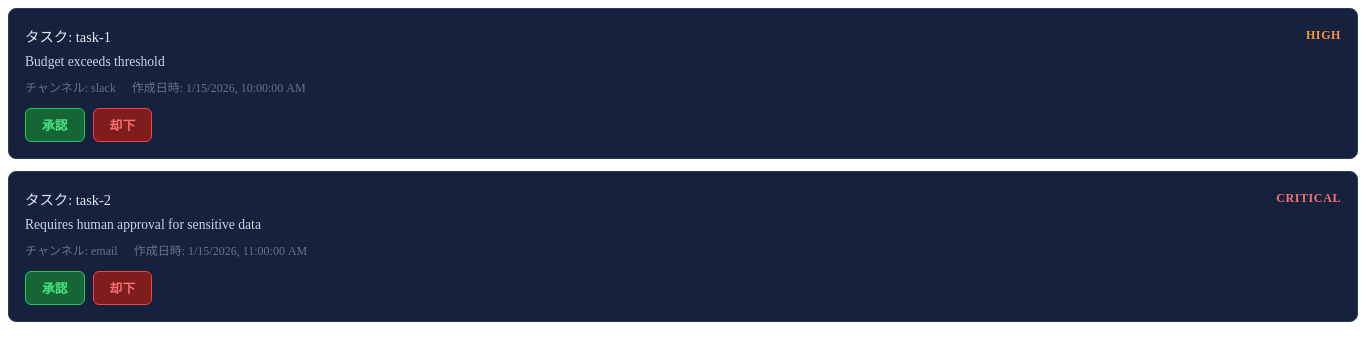
Test: ApprovalQueue › removes escalation after reject action
Expected: the text "Requires human approval for sensitive data" is shown, [25,217,261,232]
Click the button "却下" below "email" at (122, 288), box [93,271,152,305]
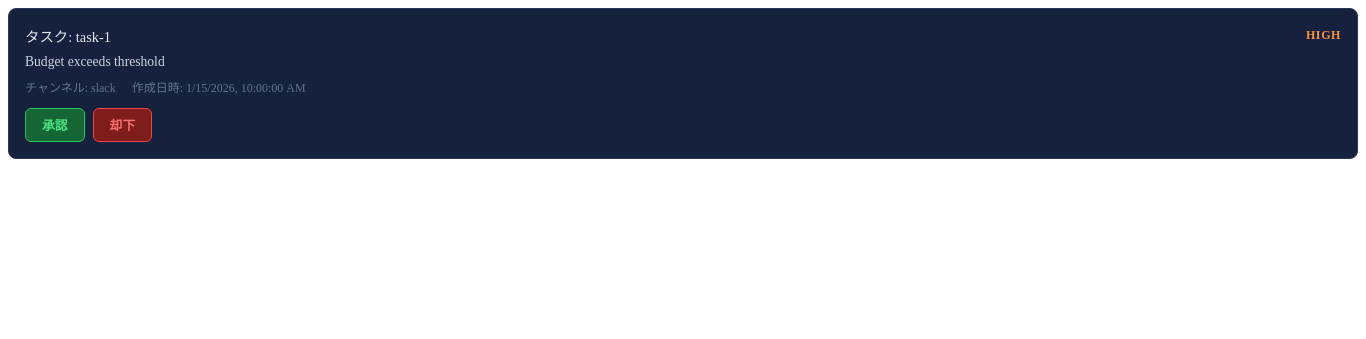
Result: the text "Requires human approval for sensitive data" is gone
